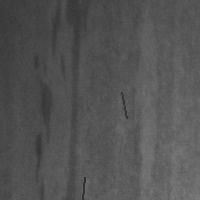inclusion: (56, 1, 83, 198), (118, 11, 145, 199), (27, 54, 54, 183), (119, 90, 128, 120), (78, 175, 86, 200)
